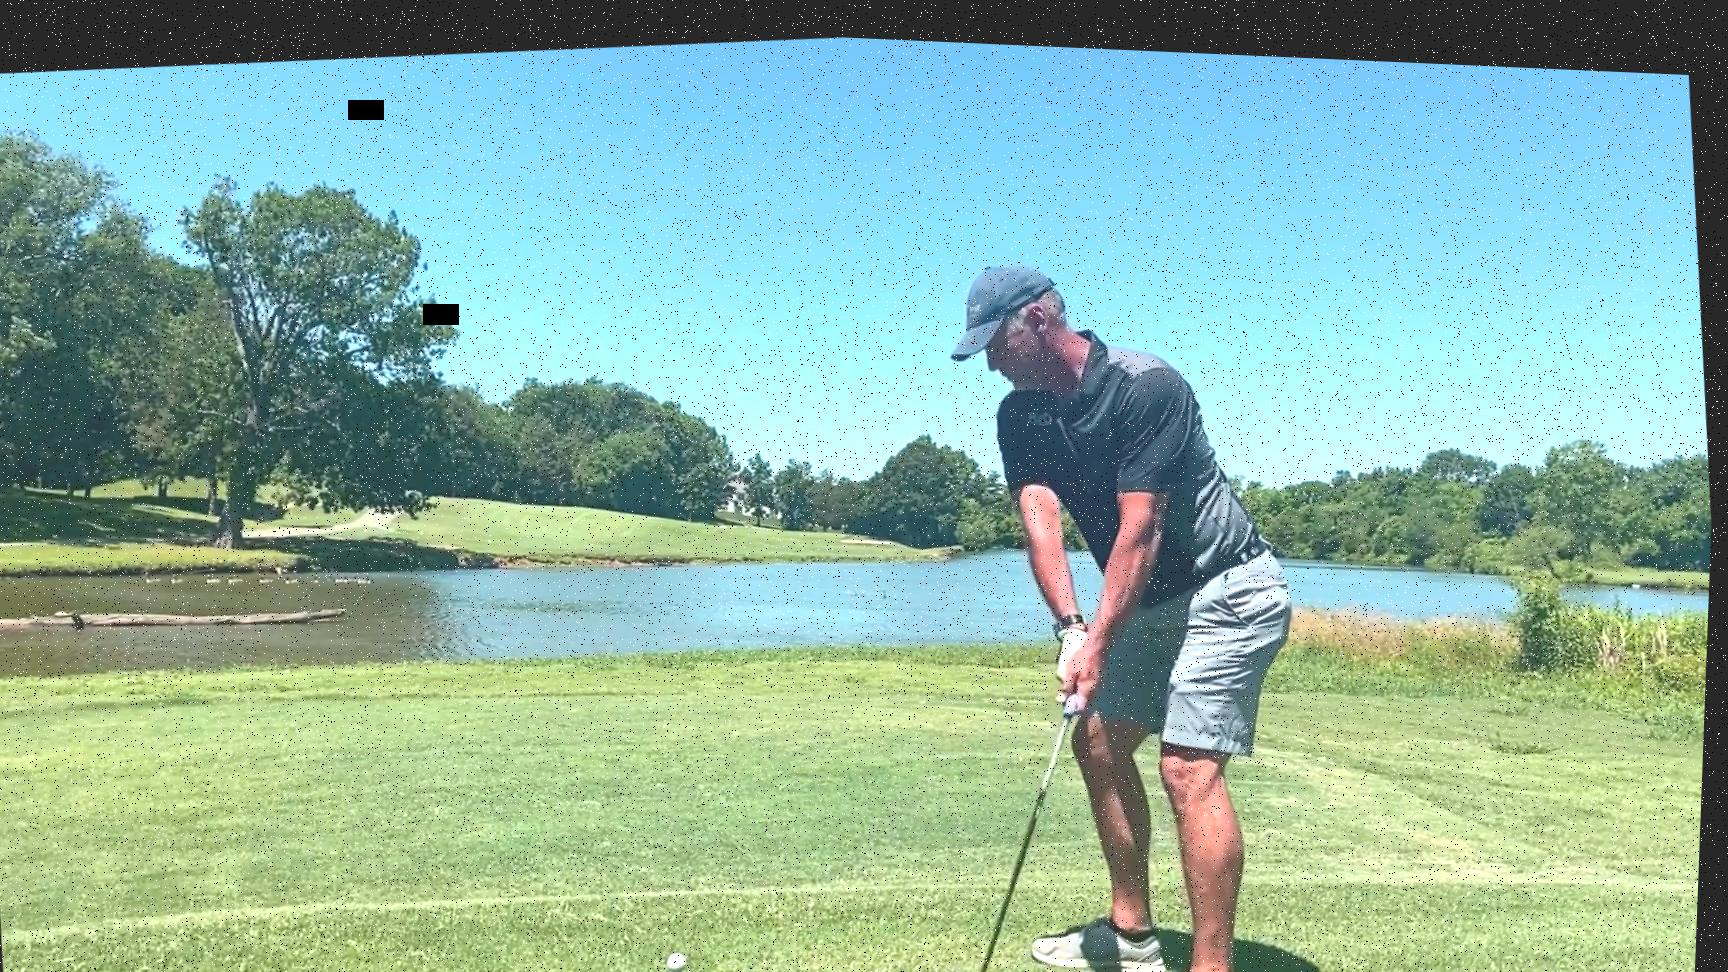ClubHead: (928, 951, 1011, 972)
GolfBall: (671, 945, 695, 967)
